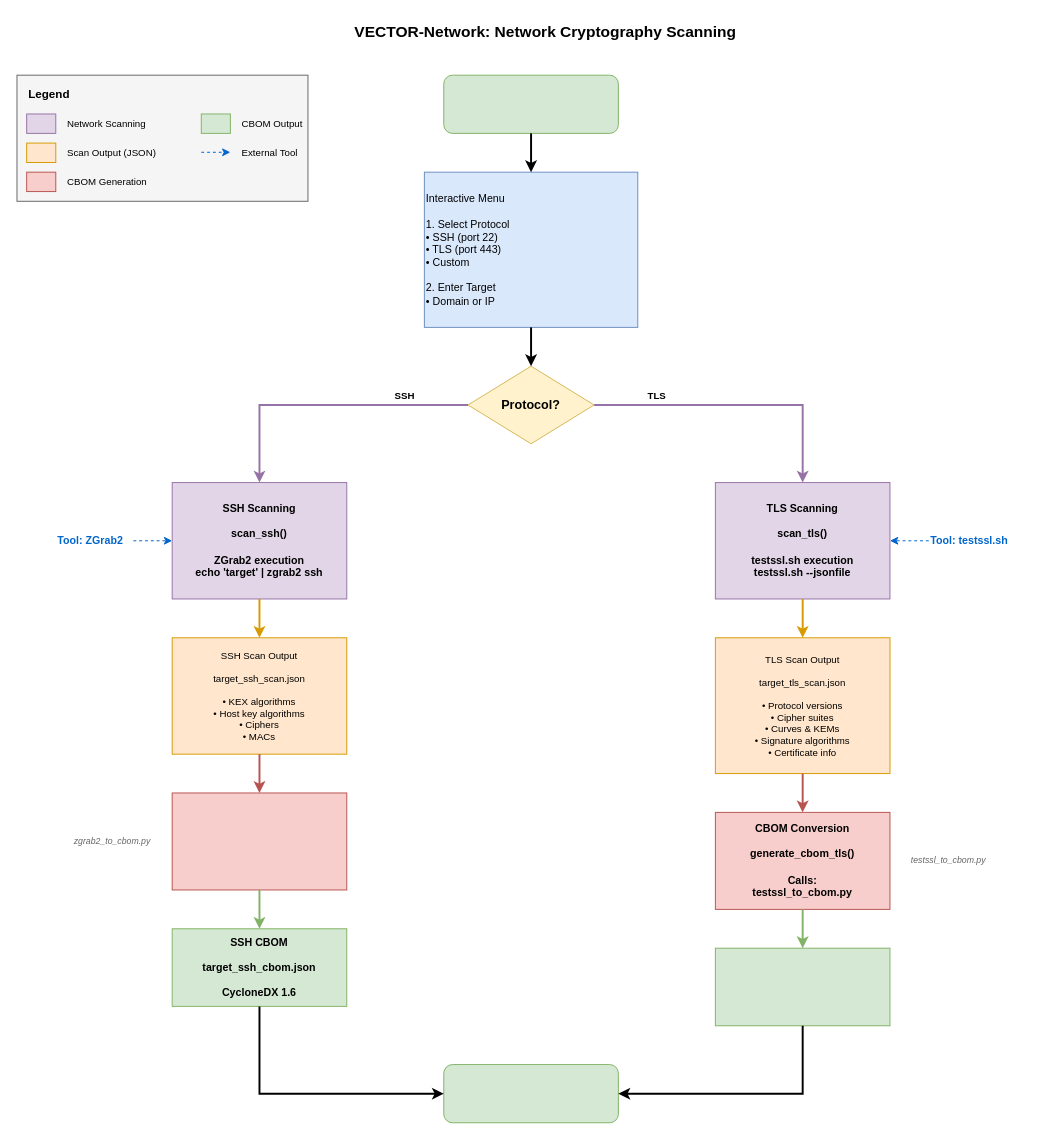
Image size: 1043x1140. Some labels were removed from this diagram. The shapes that lost their labels are listed below. From the top down, each one's centre as x and y in pixels, then its label:
At [530,103]: "User runs network-scanning.py".
At [259,841]: "CBOM Conversion generate_cbom_ssh() Calls: zgrab2_to_cbom.py".
At [802,986]: "TLS CBOM target_tls_cbom.json CycloneDX 1.6".
At [530,1093]: "Pipeline Complete".
